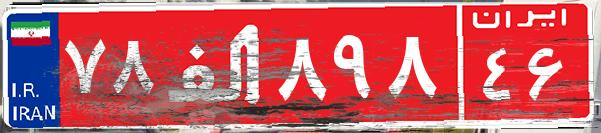4: (475, 38, 525, 113)
6: (525, 38, 570, 115)
7: (57, 26, 110, 107)
8: (385, 28, 445, 110), (273, 28, 330, 110), (110, 28, 158, 105)
9: (330, 28, 385, 110)
الف: (158, 15, 273, 115)
